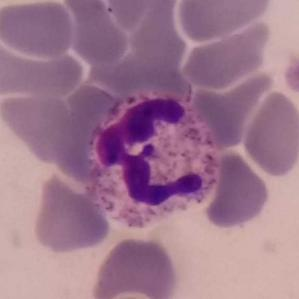Neutrophil: (84, 88, 224, 238)
Platelets: (281, 53, 299, 96)
RBC: (30, 169, 113, 256), (180, 15, 273, 92), (198, 148, 272, 231), (88, 234, 181, 299), (0, 30, 85, 99), (0, 88, 77, 162), (240, 88, 299, 178), (61, 0, 131, 66), (0, 0, 77, 60), (110, 46, 194, 99), (174, 0, 275, 43), (101, 0, 172, 31)
